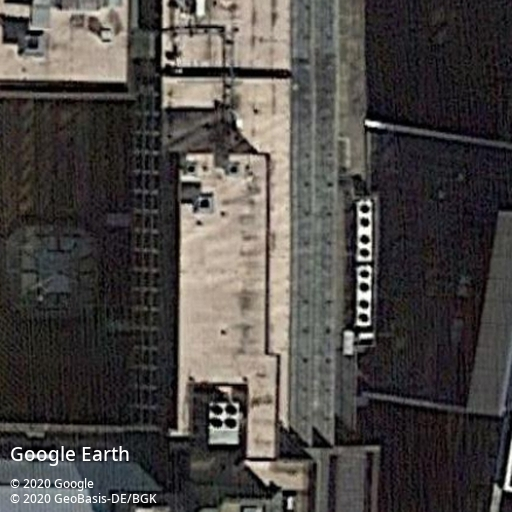Chiller: (209, 402, 238, 444), (356, 198, 372, 261), (356, 265, 372, 327)
